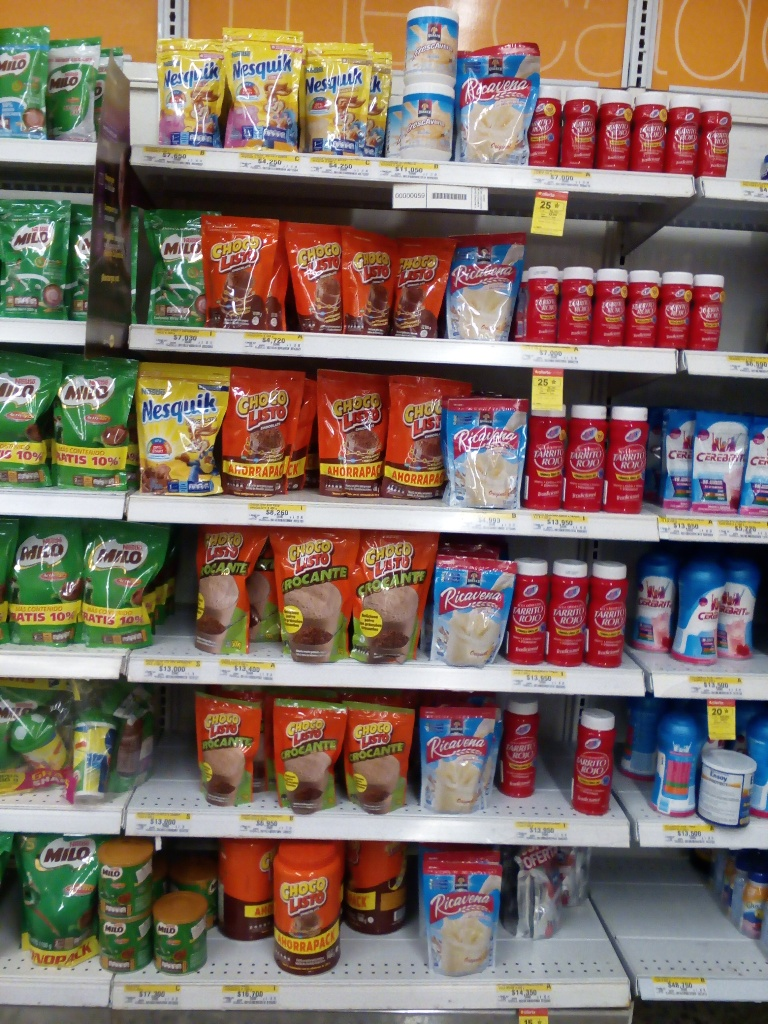COL0170102DYP25000: (343, 703, 415, 813)
COL0170102DYP50000: (347, 528, 433, 664)
COL0170103DYP20000: (393, 237, 453, 336)
COL0170103DYP44000: (384, 372, 448, 499)
COL0170103TRR00100: (266, 838, 343, 975)
COL0170203DYP25000: (140, 208, 209, 324)
COL0170203LAT40000: (147, 891, 212, 975)
COL0170205DYP20000: (0, 23, 52, 138)
COL0170305DYP20000: (150, 39, 225, 148)
COL0170306DYP20000: (299, 39, 373, 158)
